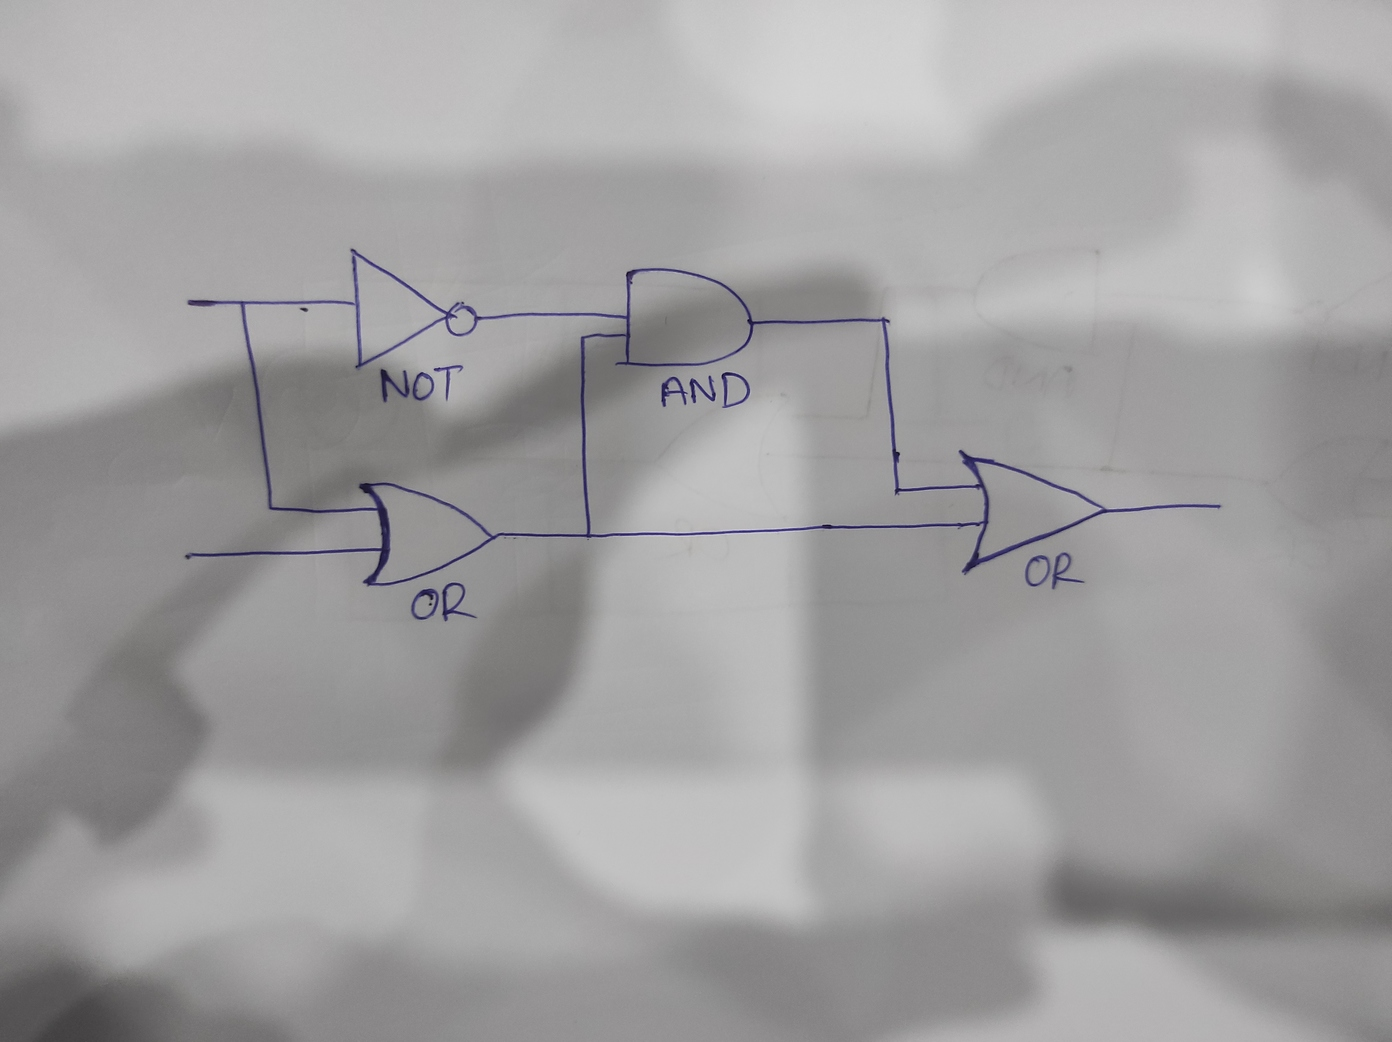and: (608, 263, 757, 372)
junction: (867, 306, 903, 338), (577, 523, 602, 548), (230, 290, 255, 314), (260, 496, 281, 517), (888, 481, 907, 500), (576, 328, 590, 345)
not: (349, 247, 480, 372)
or: (955, 448, 1109, 577), (356, 479, 503, 591)
terminal: (1204, 495, 1229, 518), (179, 294, 204, 312), (177, 546, 199, 565)
text: (656, 370, 754, 410), (379, 361, 462, 405), (409, 583, 479, 627), (1021, 549, 1087, 591)
